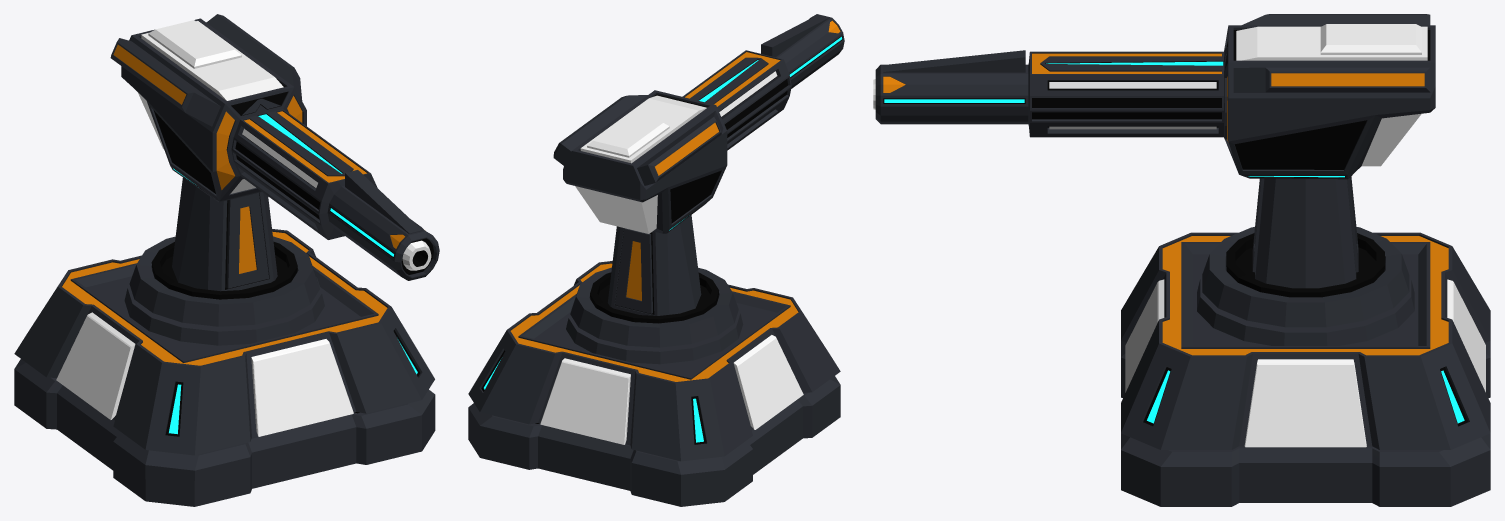
File: SM_Turret_Longshot.fbx
The picture shows the model from 3 angles, left to right: view 1: azimuth 30°, elevation 25°; view 2: azimuth 150°, elevation 25°; view 3: azimuth 270°, elevation 25°; orthographic projection. The views are drawn at different scales.
Parts seen in each view (by area): view 1: SM_Turret_Longshot, SM_Turret_Longshot_Rotator, SM_Turret_Longshot_Gun_01, SM_Turret_Longshot_Gun_02; view 2: SM_Turret_Longshot, SM_Turret_Longshot_Gun_01, SM_Turret_Longshot_Rotator, SM_Turret_Longshot_Gun_02; view 3: SM_Turret_Longshot, SM_Turret_Longshot_Gun_01, SM_Turret_Longshot_Gun_02, SM_Turret_Longshot_Rotator.
Part boxes in pixels (x1,y1,x2,y2): SM_Turret_Longshot: (14, 229, 435, 506); SM_Turret_Longshot_Rotator: (124, 177, 324, 345); SM_Turret_Longshot_Gun_01: (110, 14, 306, 202); SM_Turret_Longshot_Gun_02: (231, 109, 439, 280); SM_Turret_Longshot: (468, 261, 840, 506); SM_Turret_Longshot_Gun_01: (553, 90, 727, 233); SM_Turret_Longshot_Rotator: (566, 215, 743, 364); SM_Turret_Longshot_Gun_02: (682, 14, 844, 150); SM_Turret_Longshot: (1121, 232, 1490, 506); SM_Turret_Longshot_Gun_01: (1224, 14, 1435, 179); SM_Turret_Longshot_Gun_02: (873, 50, 1223, 137); SM_Turret_Longshot_Rotator: (1197, 176, 1414, 345).
Size of the model in its own units: 1 by 1.18 by 1.67.
